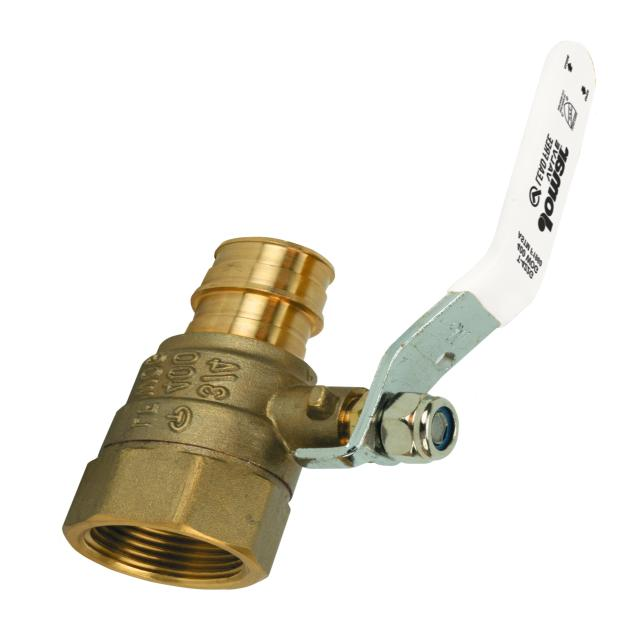opened_valve: (59, 36, 604, 591)
